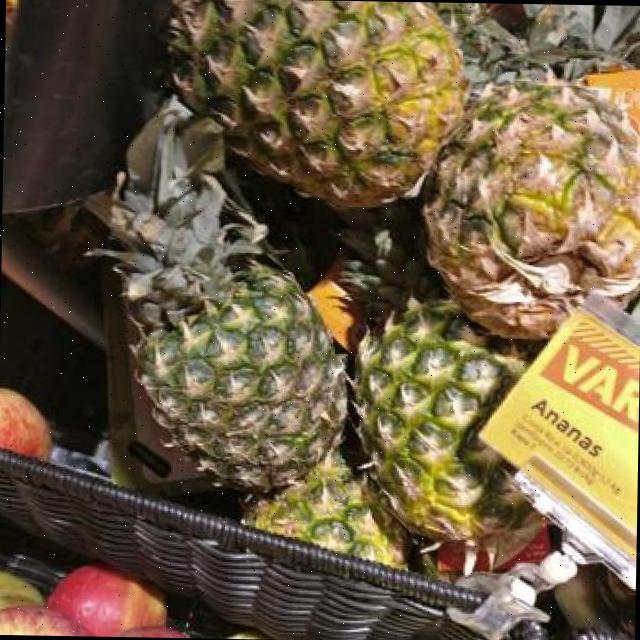pineapple: (94, 100, 346, 491), (172, 0, 467, 206), (423, 83, 640, 338), (353, 302, 530, 540), (244, 452, 401, 566)
